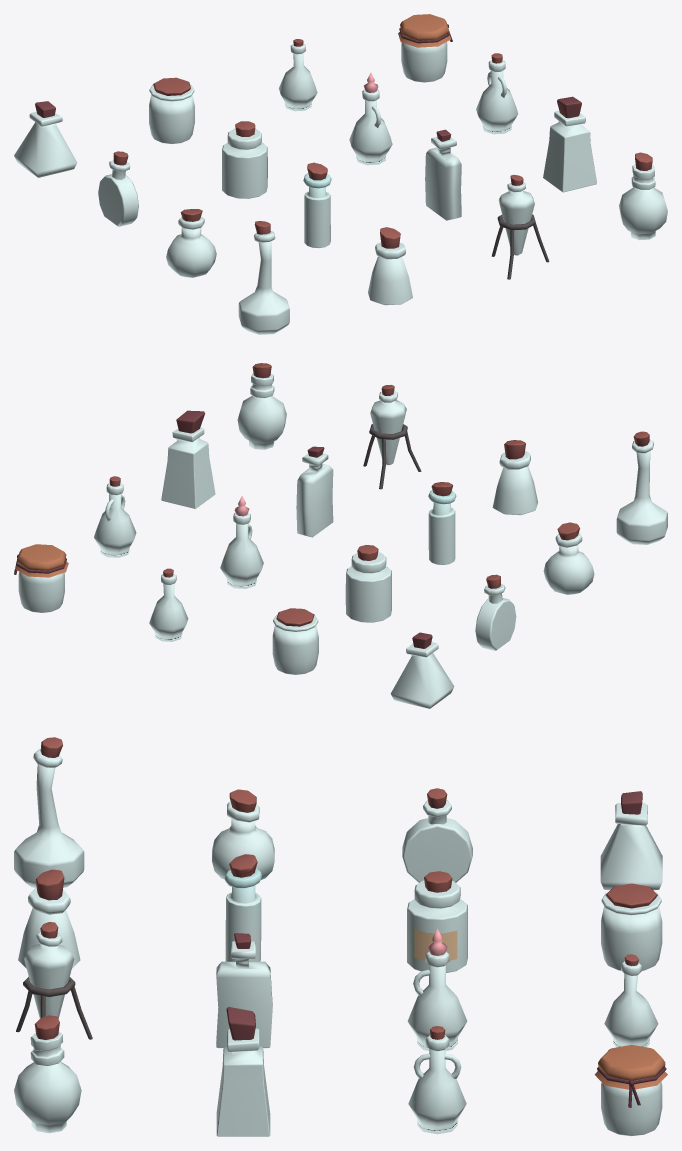
Rendered from Potions_Final_CT.fbx.
3 views of the same model, one above another, from view 1: azimuth 30°, elevation 25°; view 2: azimuth 150°, elevation 25°; view 3: azimuth 270°, elevation 25° (orthographic). The views are drawn at different scales.
Parts seen in each view (by area): view 1: Sphere.004, Sphere.006, Sphere.015, Cylinder.003, Sphere.012, Cylinder.006, Sphere.013, Sphere.002, Cylinder.004, Cylinder.005, Potion, Sphere.009 (+4 smaller); view 2: Sphere.004, Sphere.006, Sphere.015, Cylinder.003, Sphere.012, Cylinder.006, Sphere.013, Sphere.002, Cylinder.004, Potion, Cylinder.005, Sphere.009 (+4 smaller); view 3: Sphere.004, Sphere.015, Cylinder.006, Cylinder.003, Sphere.006, Sphere.013, Sphere.012, Sphere.005, Sphere.002, Sphere.010, Cylinder.005, Sphere.009 (+4 smaller).
Boxes of the visible parts, box(x1,y1,x2,y2) form: Sphere.004: box(543, 96, 596, 192); Sphere.006: box(222, 121, 267, 198); Sphere.015: box(398, 14, 452, 82); Cylinder.003: box(238, 221, 289, 334); Sphere.012: box(14, 101, 77, 177); Cylinder.006: box(619, 152, 667, 240); Sphere.013: box(149, 77, 194, 144); Sphere.002: box(425, 129, 461, 220); Cylinder.004: box(368, 227, 412, 305); Cylinder.005: box(491, 175, 549, 279); Potion: box(166, 209, 216, 277); Sphere.009: box(349, 72, 392, 165); Sphere.004: box(161, 410, 215, 508); Sphere.006: box(345, 545, 391, 622); Sphere.015: box(14, 544, 68, 612); Cylinder.003: box(616, 431, 667, 544); Sphere.012: box(390, 632, 454, 708); Cylinder.006: box(237, 363, 286, 449); Sphere.013: box(272, 608, 318, 674); Sphere.002: box(296, 446, 333, 537); Cylinder.004: box(492, 440, 537, 515); Potion: box(543, 522, 594, 594); Cylinder.005: box(363, 385, 421, 489); Sphere.009: box(220, 496, 263, 588); Sphere.004: box(216, 1007, 270, 1136); Sphere.015: box(594, 1044, 667, 1136); Cylinder.006: box(14, 1015, 81, 1133); Cylinder.003: box(14, 737, 84, 887); Sphere.006: box(407, 871, 467, 973); Sphere.013: box(601, 883, 662, 970); Sphere.012: box(600, 791, 662, 890); Sphere.005: box(402, 788, 472, 882); Sphere.002: box(216, 933, 272, 1048); Sphere.010: box(408, 1026, 466, 1134); Cylinder.005: box(16, 922, 92, 1039); Sphere.009: box(407, 928, 467, 1050).
Bounding box in the file's own units: 1889 × 436 × 1870.
